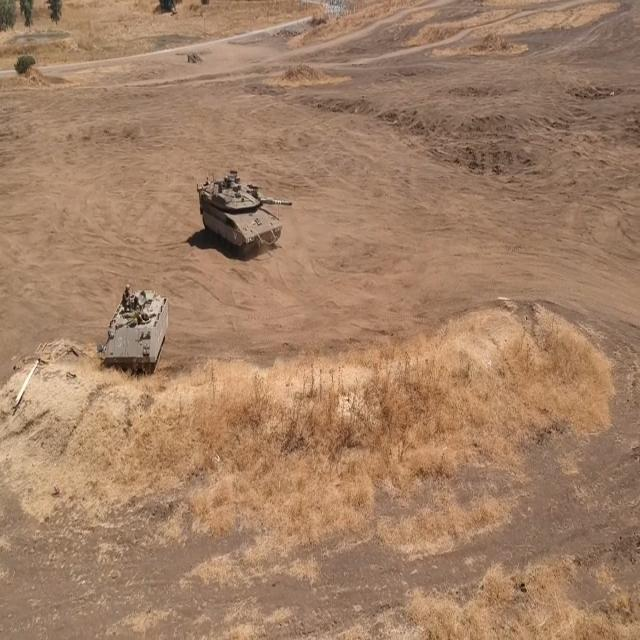tank: (192, 172, 298, 262)
